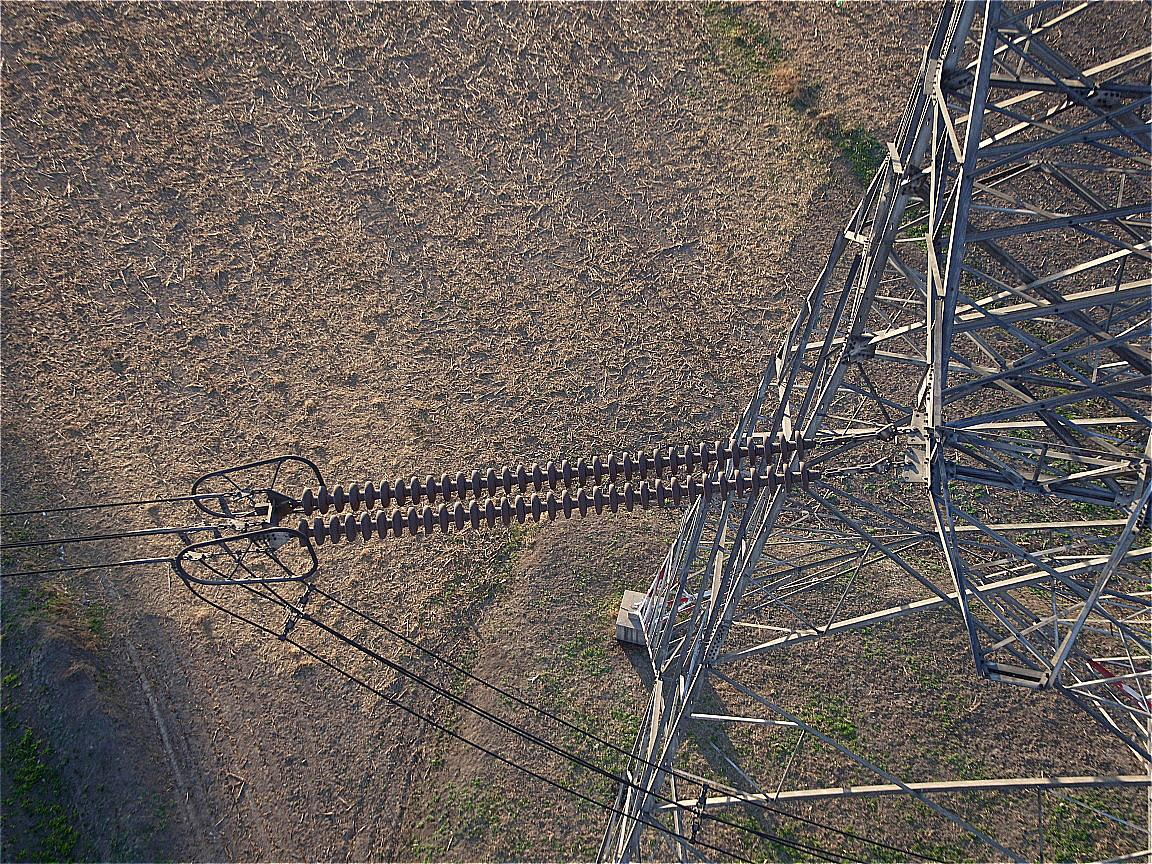insultor1: (292, 433, 823, 548)
